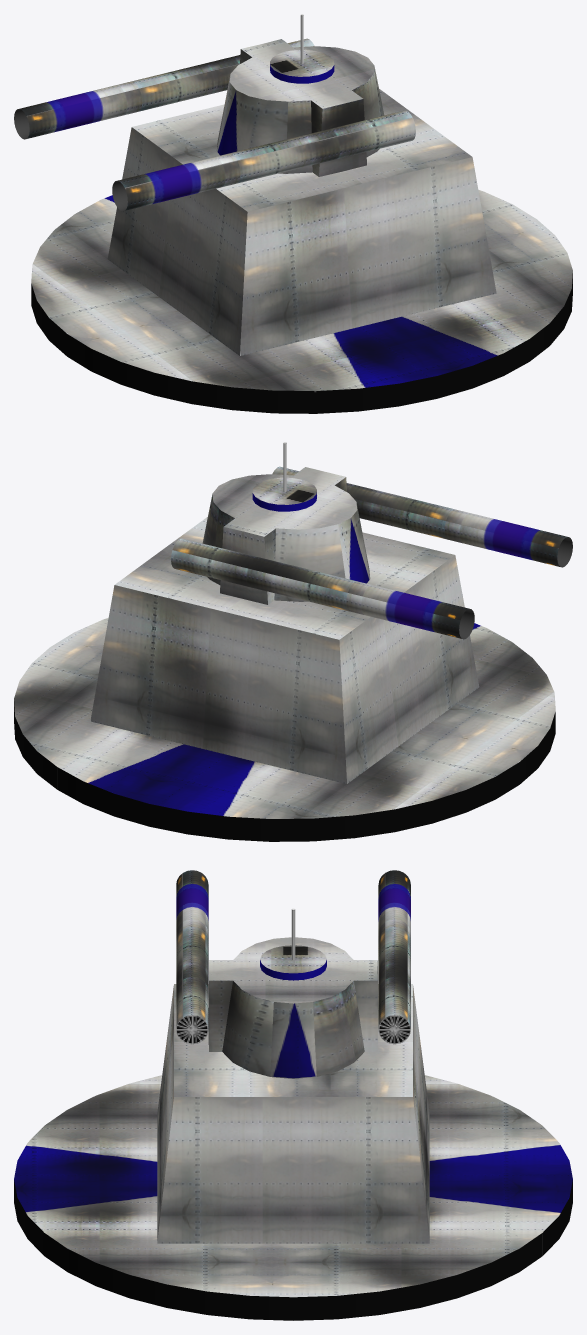
Rendered from towerA_Blue.fbx.
3 renders of one model, top to bottom at view 1: azimuth 30°, elevation 25°; view 2: azimuth 150°, elevation 25°; view 3: azimuth 270°, elevation 25°, orthographic. The views are drawn at different scales.
Visible parts, largest first — view 1: polySurface1; view 2: polySurface1; view 3: polySurface1.
Part boxes in pixels (x1=…): polySurface1: x1=14, y1=14, x2=572, y2=413; polySurface1: x1=14, y1=442, x2=572, y2=841; polySurface1: x1=14, y1=870, x2=572, y2=1320.
Bounding box in the file's own units: 15.96 × 9.24 × 15.96.
Materials: 1 (1 with a texture image).
